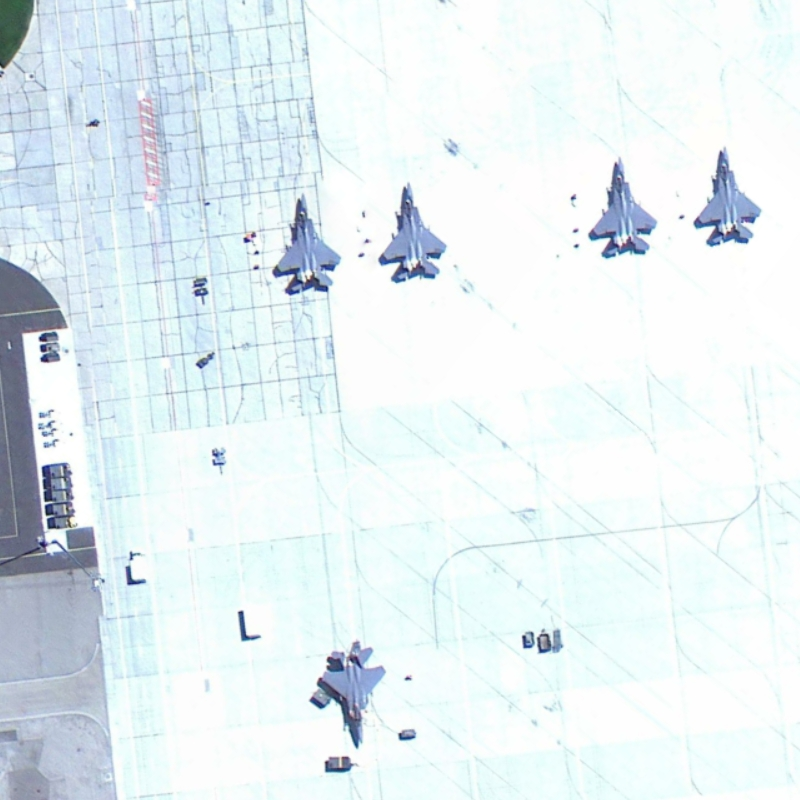A13: (306, 637, 392, 753), (367, 177, 456, 289), (682, 139, 767, 253), (577, 154, 665, 264), (266, 189, 351, 297)
